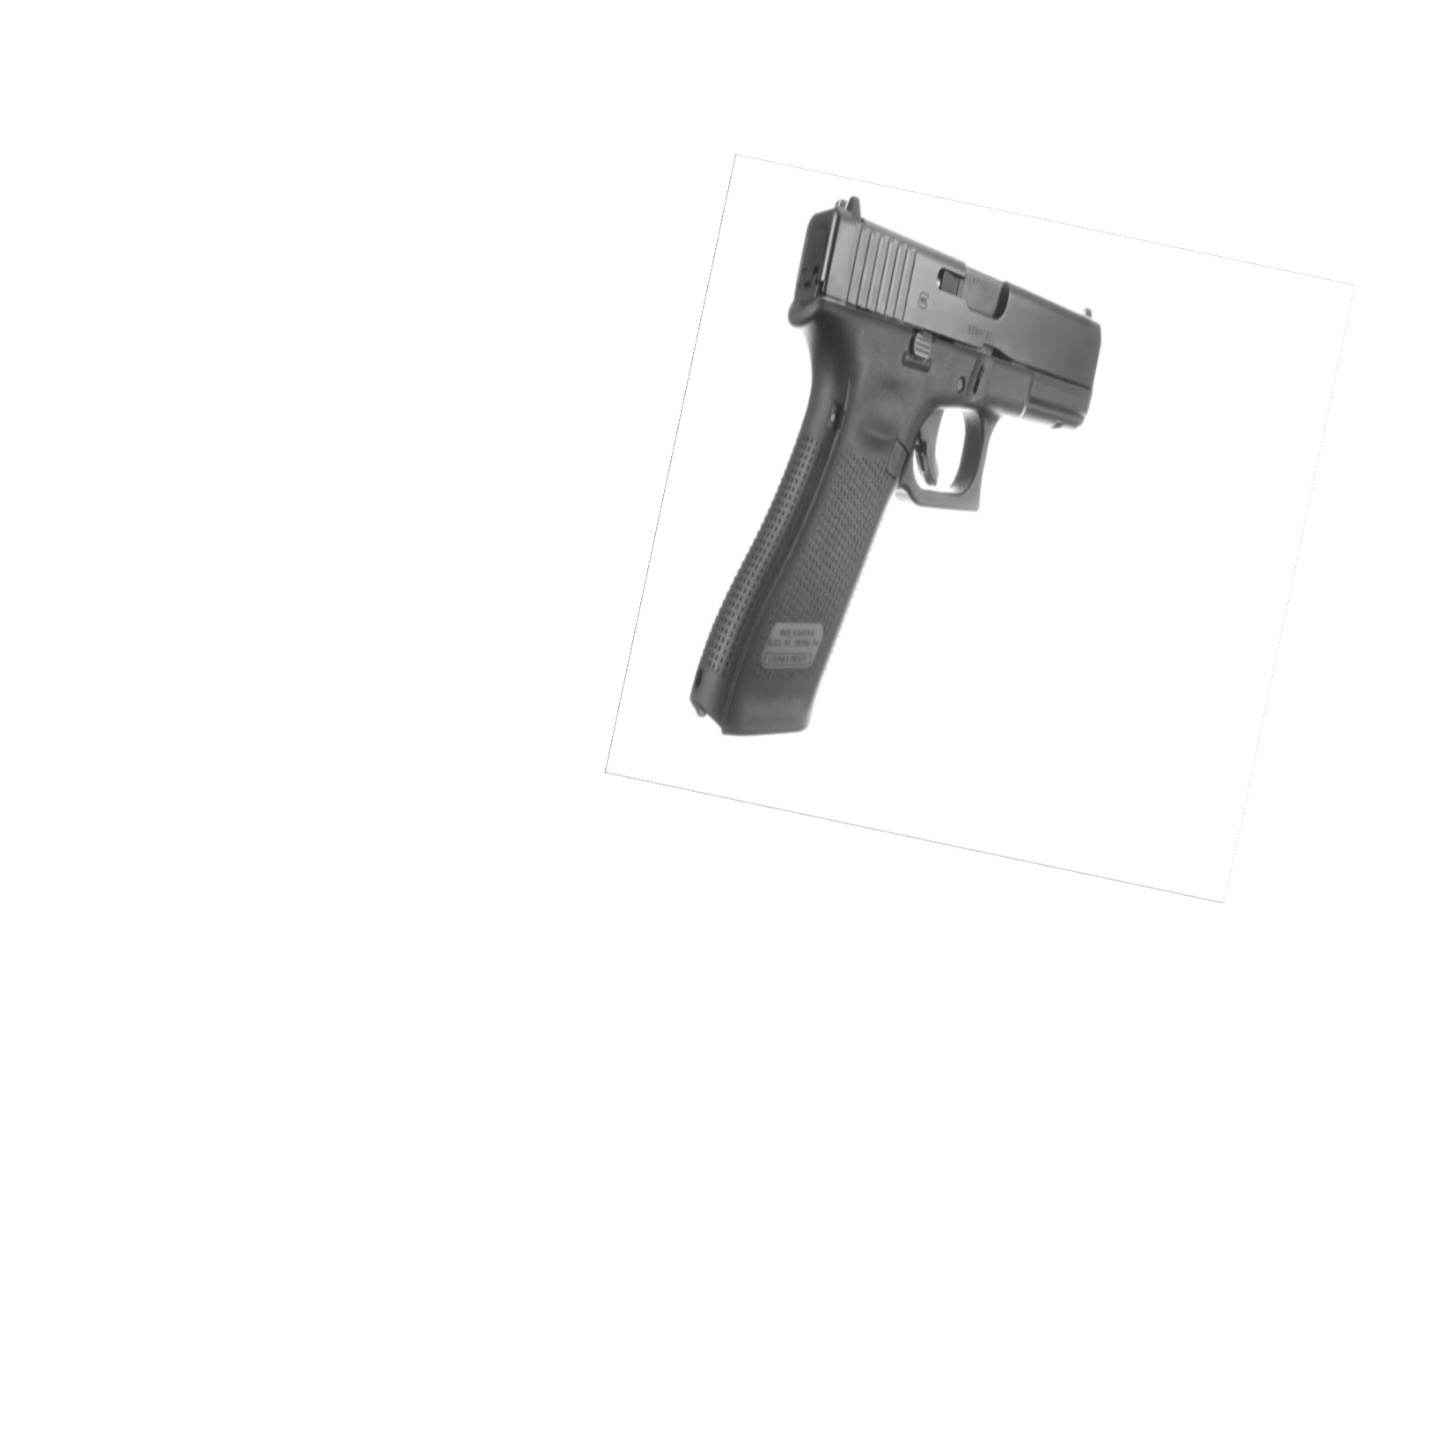gun: (685, 188, 1113, 745)
